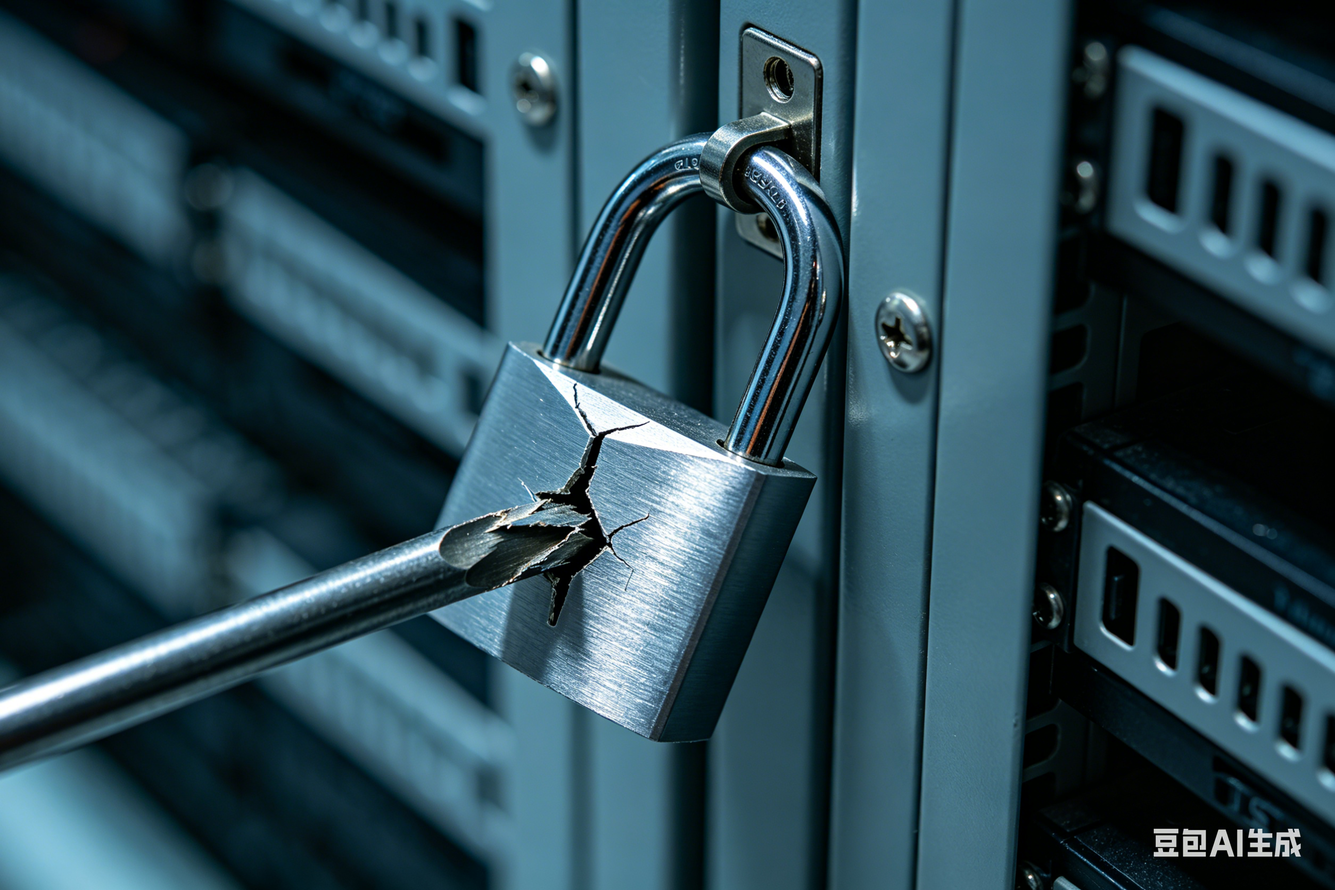BadLock: (509, 342, 703, 638)
